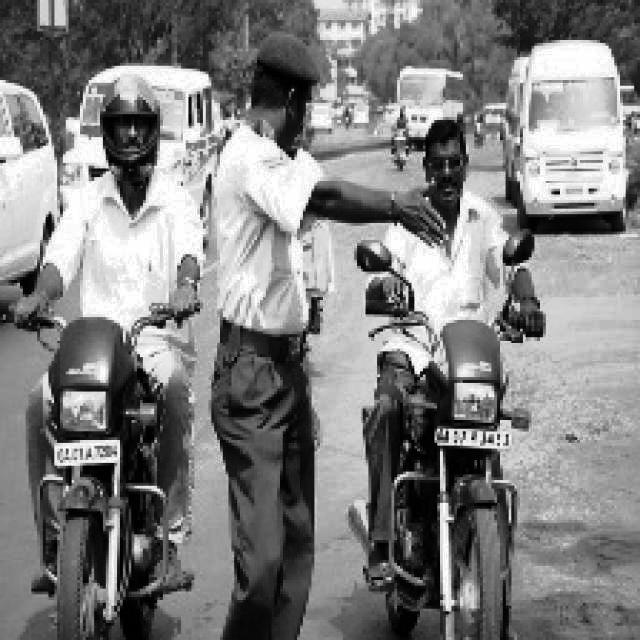Bike: (372, 320, 530, 619), (47, 317, 173, 639)
